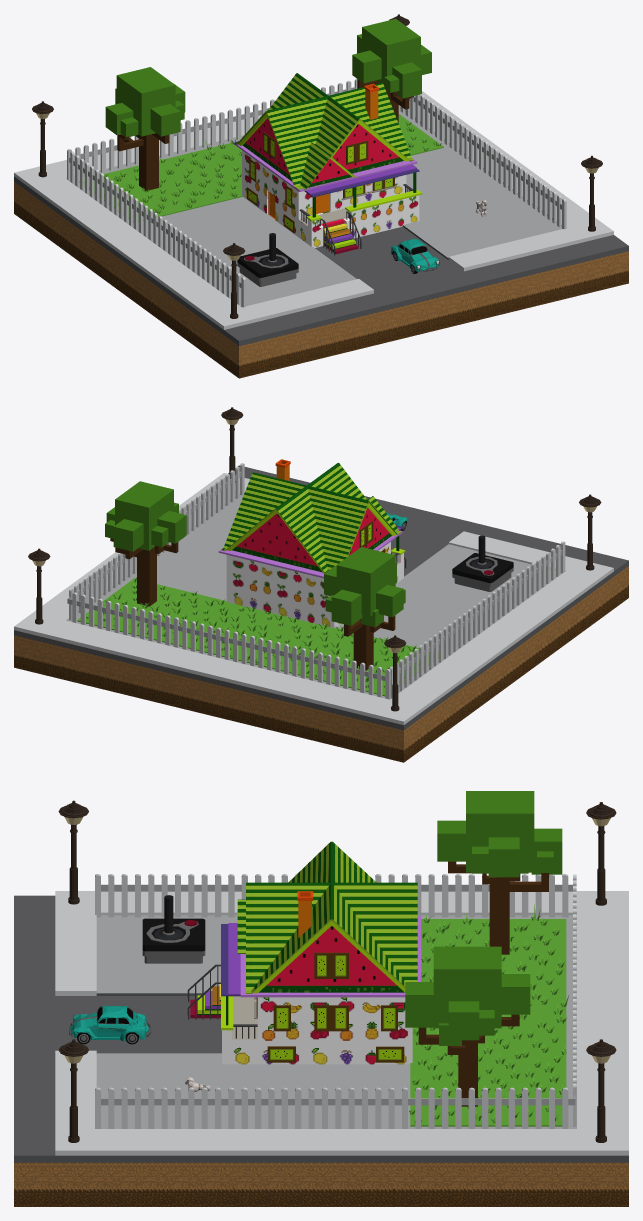
The picture shows the model from 3 angles, top to bottom: view 1: azimuth 30°, elevation 25°; view 2: azimuth 150°, elevation 25°; view 3: azimuth 270°, elevation 25°; orthographic projection. The views are drawn at different scales.
Parts seen in each view (by area): view 1: Cube.004, Cube.1063, OBJRANDOM_JOYSTICK, VEHICLES_VOLKSWAGEN; view 2: Cube.004, Cube.1063, OBJRANDOM_JOYSTICK; view 3: Cube.004, Cube.1063, OBJRANDOM_JOYSTICK, VEHICLES_VOLKSWAGEN.
Part boxes in pixels (bbox=[...]): Cube.004: bbox=[14, 14, 628, 378]; Cube.1063: bbox=[233, 73, 422, 255]; OBJRANDOM_JOYSTICK: bbox=[237, 233, 298, 286]; VEHICLES_VOLKSWAGEN: bbox=[390, 239, 439, 273]; Cube.004: bbox=[14, 407, 628, 762]; Cube.1063: bbox=[218, 459, 406, 627]; OBJRANDOM_JOYSTICK: bbox=[452, 535, 513, 591]; Cube.004: bbox=[14, 791, 628, 1206]; Cube.1063: bbox=[187, 841, 421, 1064]; OBJRANDOM_JOYSTICK: bbox=[142, 895, 205, 963]; VEHICLES_VOLKSWAGEN: bbox=[69, 1006, 151, 1044].
Bounding box in the file's own units: 4000 × 1579 × 4000.
37 materials, 5 textured.
